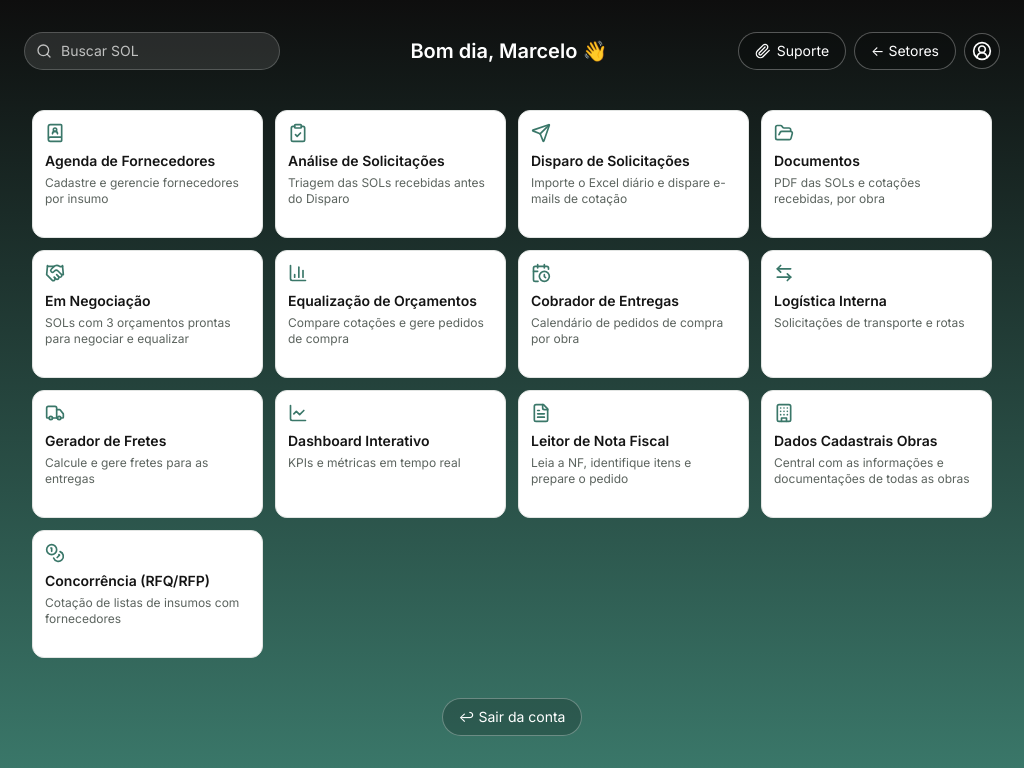
it: SuprimentosPage › mostra o ícone de perfil, com o nome e o sair dentro do menu
The width and height of the screenshot is (1024, 768).
Expected: the text "Marcelo Souza" is not shown
Click the button named "Menu de Marcelo Souza".
click(982, 51)  # box left=964, top=33, right=1000, bottom=69
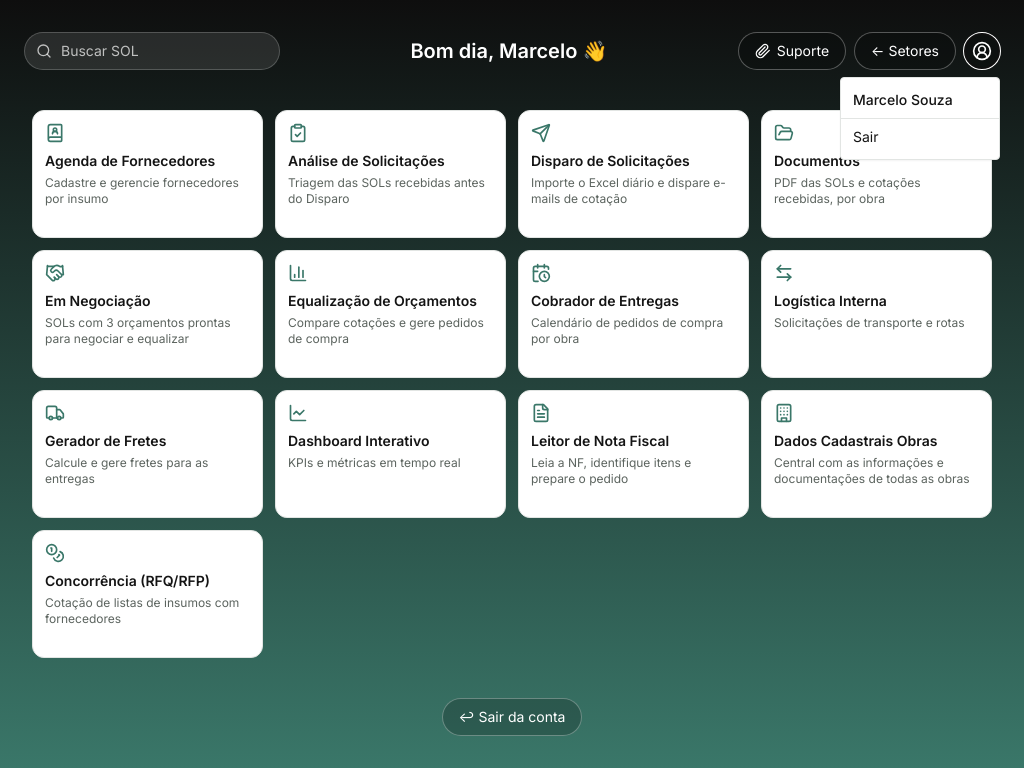
Expected: the text "Marcelo Souza" is shown, left=841, top=82, right=999, bottom=119
Expected: the menu item "Sair" is shown, left=841, top=119, right=999, bottom=155
